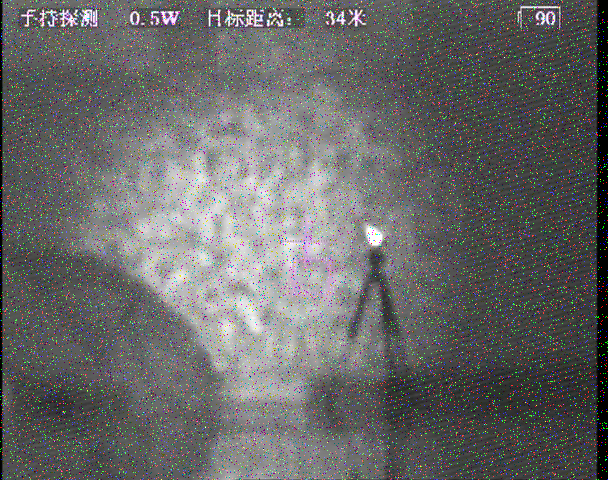my: (363, 221, 385, 246)
